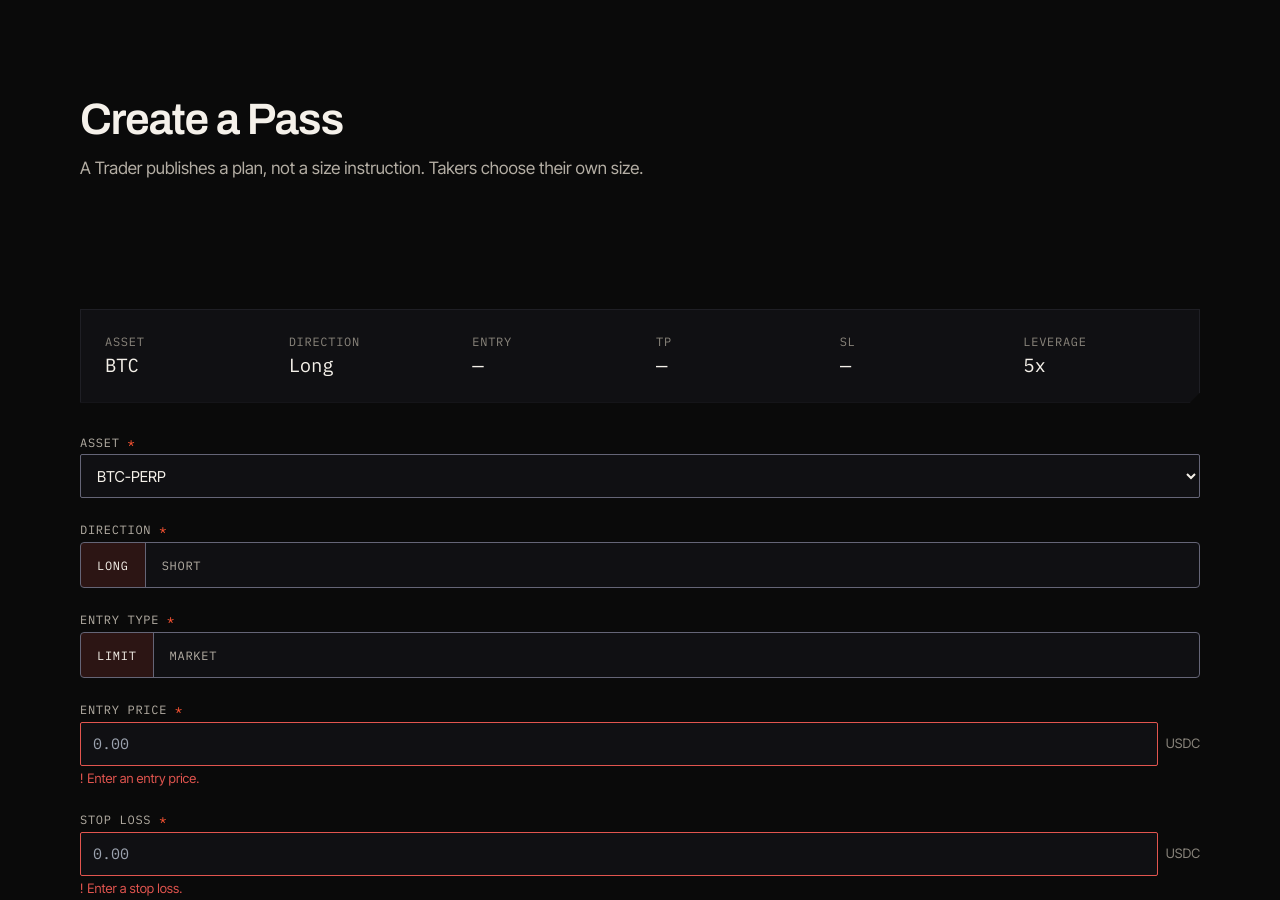
Test case: Create Pass preview and publish (§10.5) › surfaces validation as text under the field, not as border colour
The image size is (1280, 900).
Expected: the heading "Create a Pass" is shown, [80, 95, 343, 143]
Step 1. Type "113400" into the field labelled "Entry price *" → [619, 744], box [80, 722, 1158, 766]
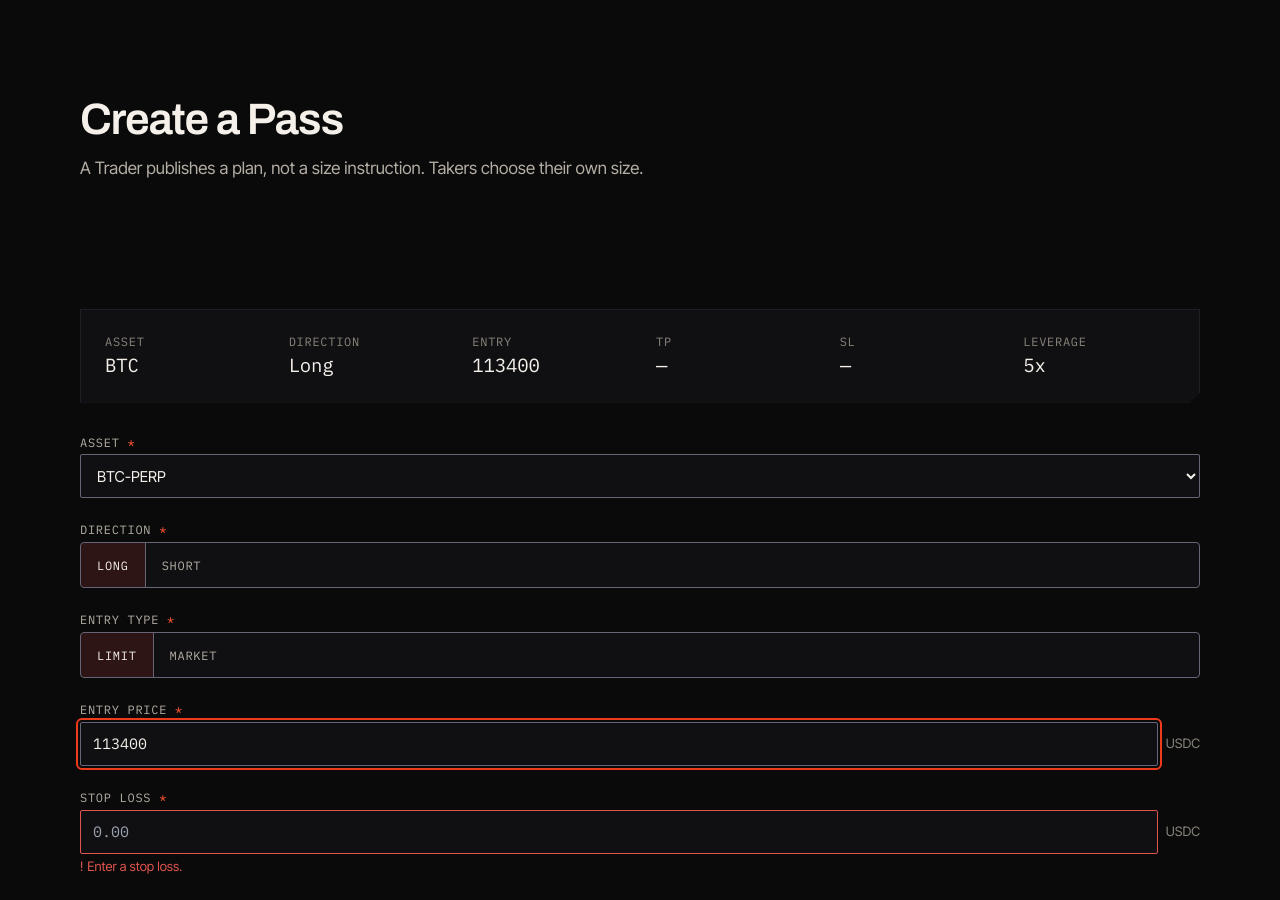
Step 2. Type "120000" into the field labelled "Stop loss *" → [619, 832], box [80, 810, 1158, 854]
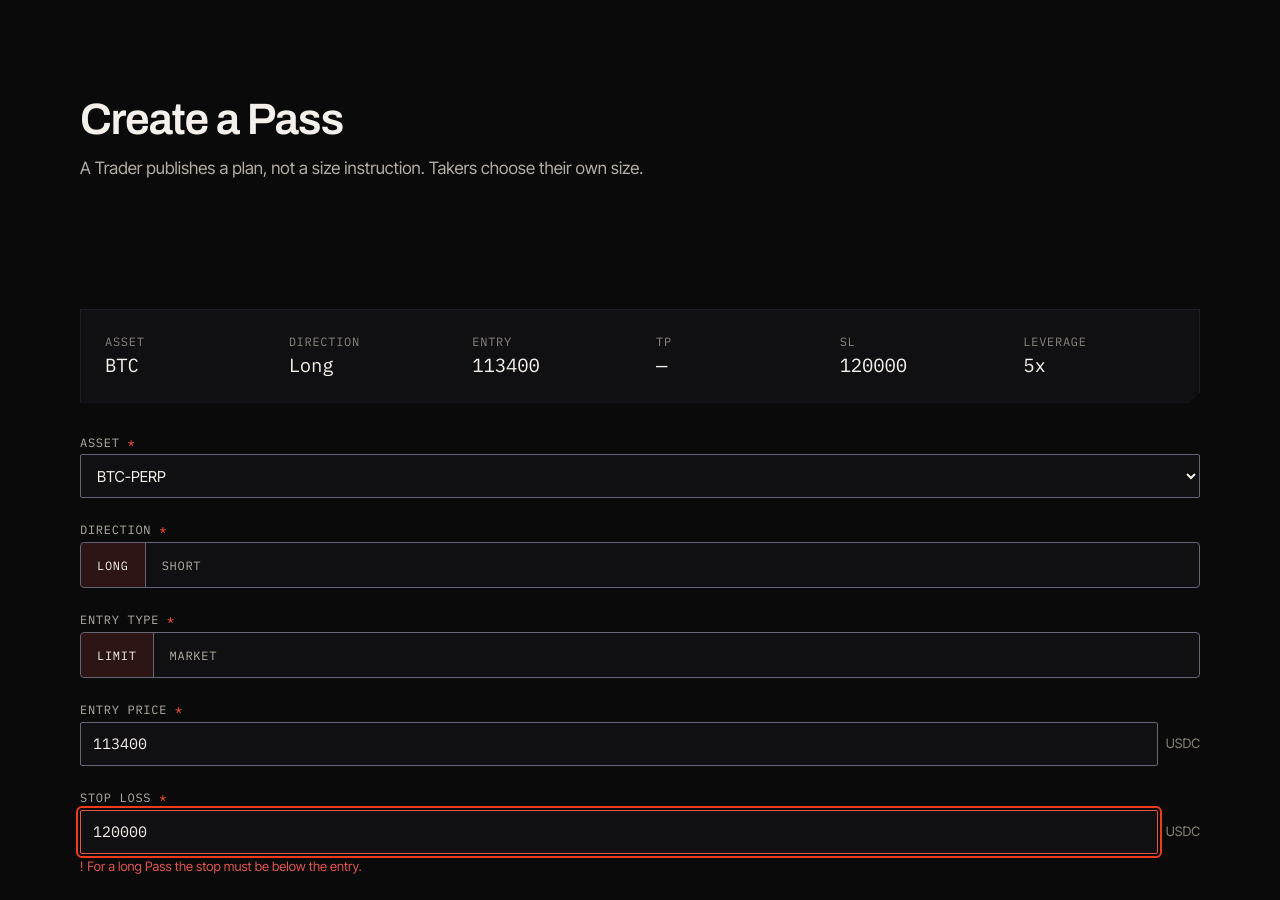
Now the text "For a long Pass the stop must be below the entry." is shown, box [87, 858, 362, 876]
